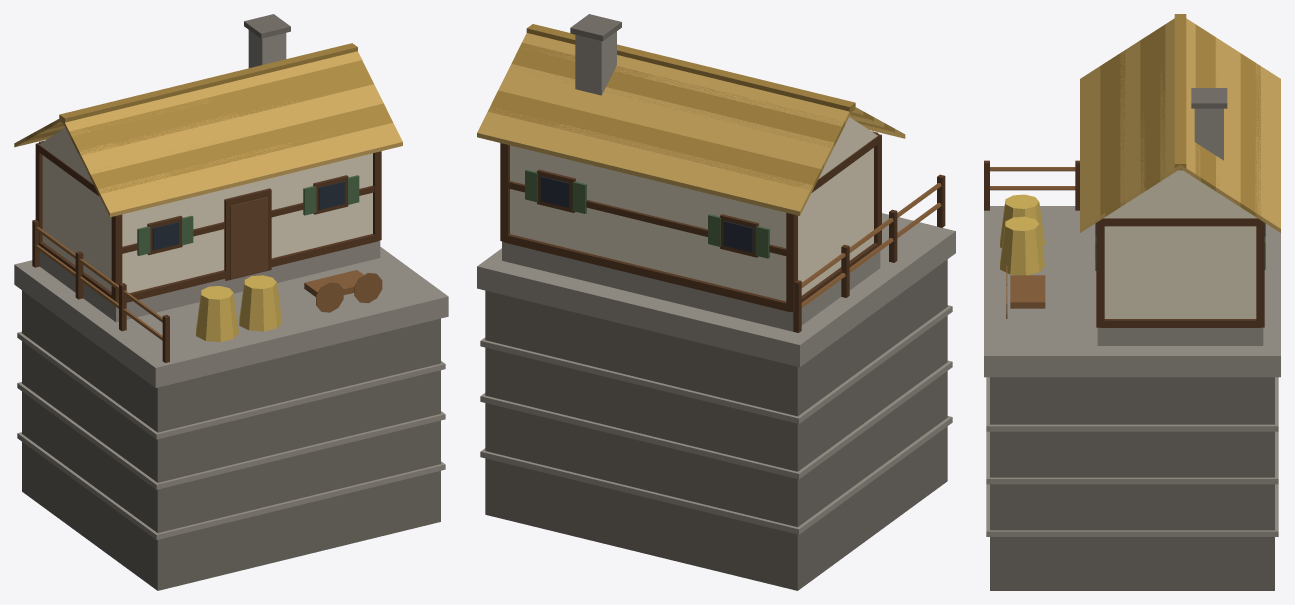
The model's file is farm.glb.
3 views of the same model, side by side, from view 1: azimuth 30°, elevation 25°; view 2: azimuth 150°, elevation 25°; view 3: azimuth 270°, elevation 25° (orthographic). The views are drawn at different scales.
Parts seen in each view (by area): view 1: farm; view 2: farm; view 3: farm.
Part boxes in pixels (box(x1,y1,x2,y2)): farm: box(14, 14, 448, 590); farm: box(477, 14, 955, 590); farm: box(984, 14, 1280, 590).
Bounding box in the file's own units: 6.1 × 8.72 × 5.1.
